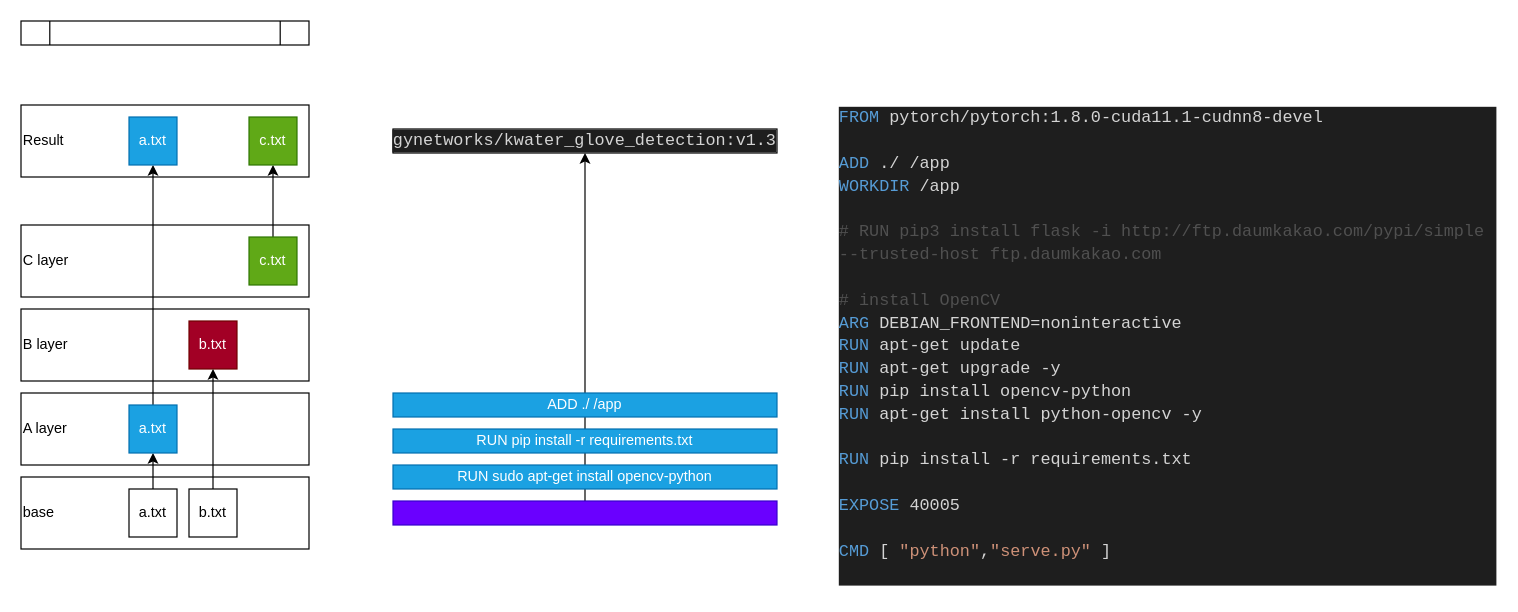
This 1518x612 diagram has some shape labels left out. The shapes that lost their labels are listed below. From the top down, each one's centre as x and y in pixels, then its label:
At (164,32): "Docker: UFS(Union File System)".
At (584,512): "FROM pytorch/pytorch:1.10.0-cuda11.3-cudnn8-devel".
